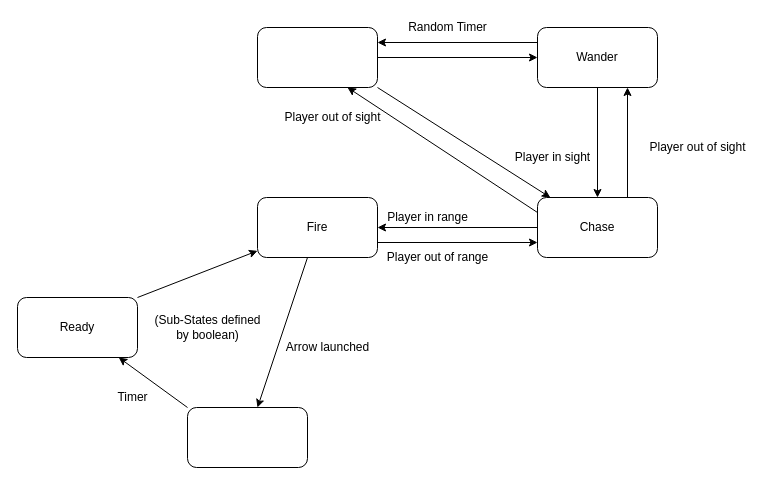
Image size: 770x485. Some labels were removed from this diagram. The centre of each missing label's shape, as x and y in pixels:
"Idle" belongs at (317,57).
"On Cooldown" belongs at (247,437).
